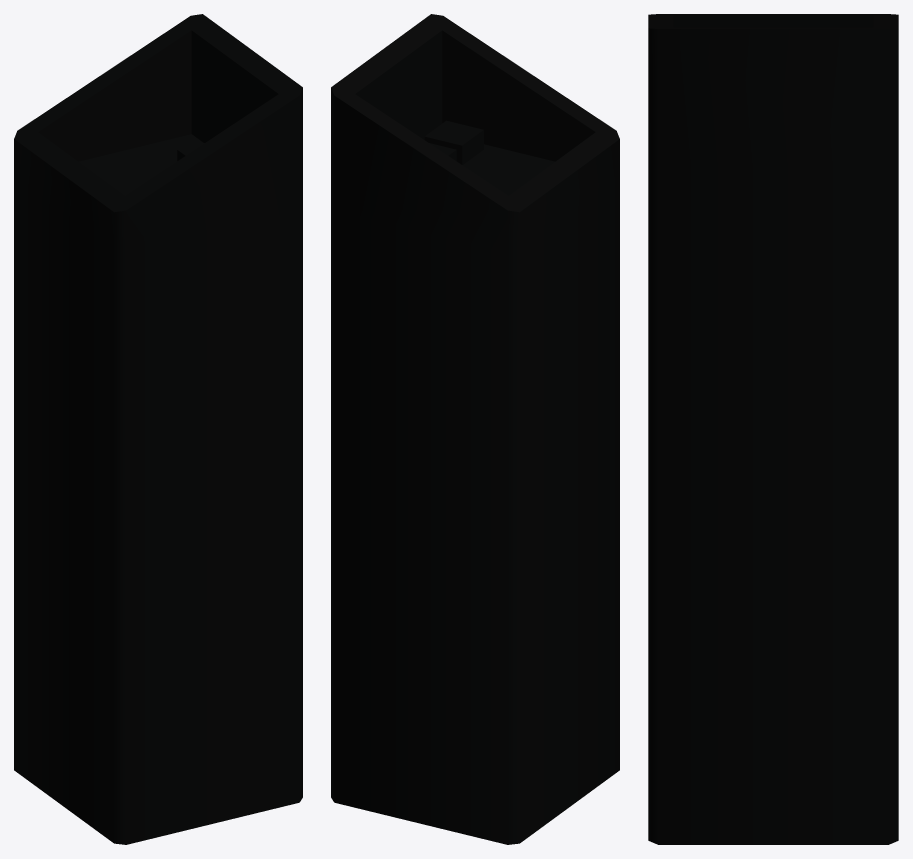
The model's file is low-detail-building-e.glb.
The picture shows the model from 3 angles, left to right: view 1: azimuth 30°, elevation 25°; view 2: azimuth 150°, elevation 25°; view 3: azimuth 270°, elevation 25°; orthographic projection. The views are drawn at different scales.
Parts seen in each view (by area): view 1: low-detail-building-e; view 2: low-detail-building-e; view 3: low-detail-building-e.
Boxes of the visible parts, left/top/right/bottom form: low-detail-building-e: left=14, top=14, right=302, bottom=844; low-detail-building-e: left=331, top=14, right=619, bottom=844; low-detail-building-e: left=648, top=14, right=898, bottom=844.
Bounding box in the file's own units: 0.5004 × 1.8 × 0.5004.
Materials: 1 (1 with a texture image).
